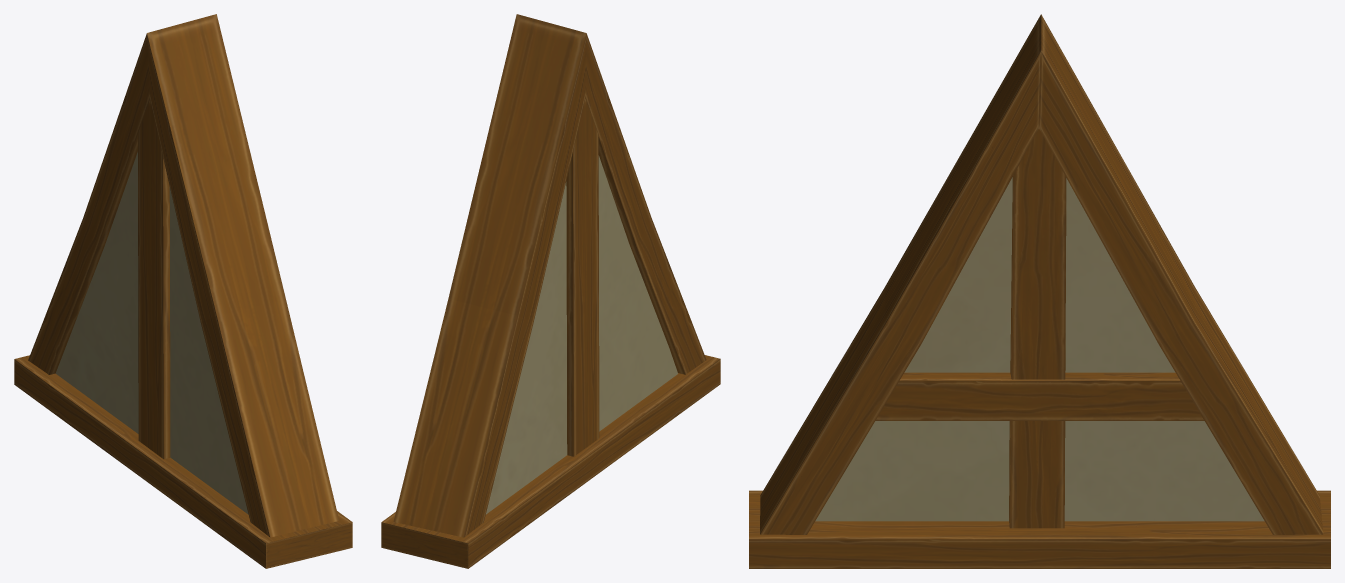
The model's file is SM_House_Roof_01_WallTop_Standard_02.fbx.
3 renders of one model, left to right at view 1: azimuth 30°, elevation 25°; view 2: azimuth 150°, elevation 25°; view 3: azimuth 270°, elevation 25°, orthographic. The views are drawn at different scales.
Parts seen in each view (by area): view 1: SM_House_Roof_01_WallTop_Standard_02; view 2: SM_House_Roof_01_WallTop_Standard_02; view 3: SM_House_Roof_01_WallTop_Standard_02.
Part boxes in pixels (bbox=[...]): SM_House_Roof_01_WallTop_Standard_02: bbox=[14, 14, 352, 568]; SM_House_Roof_01_WallTop_Standard_02: bbox=[381, 14, 720, 568]; SM_House_Roof_01_WallTop_Standard_02: bbox=[749, 14, 1330, 568].
Size of the model in its own units: 0.4117 by 2.01 by 2.07.
